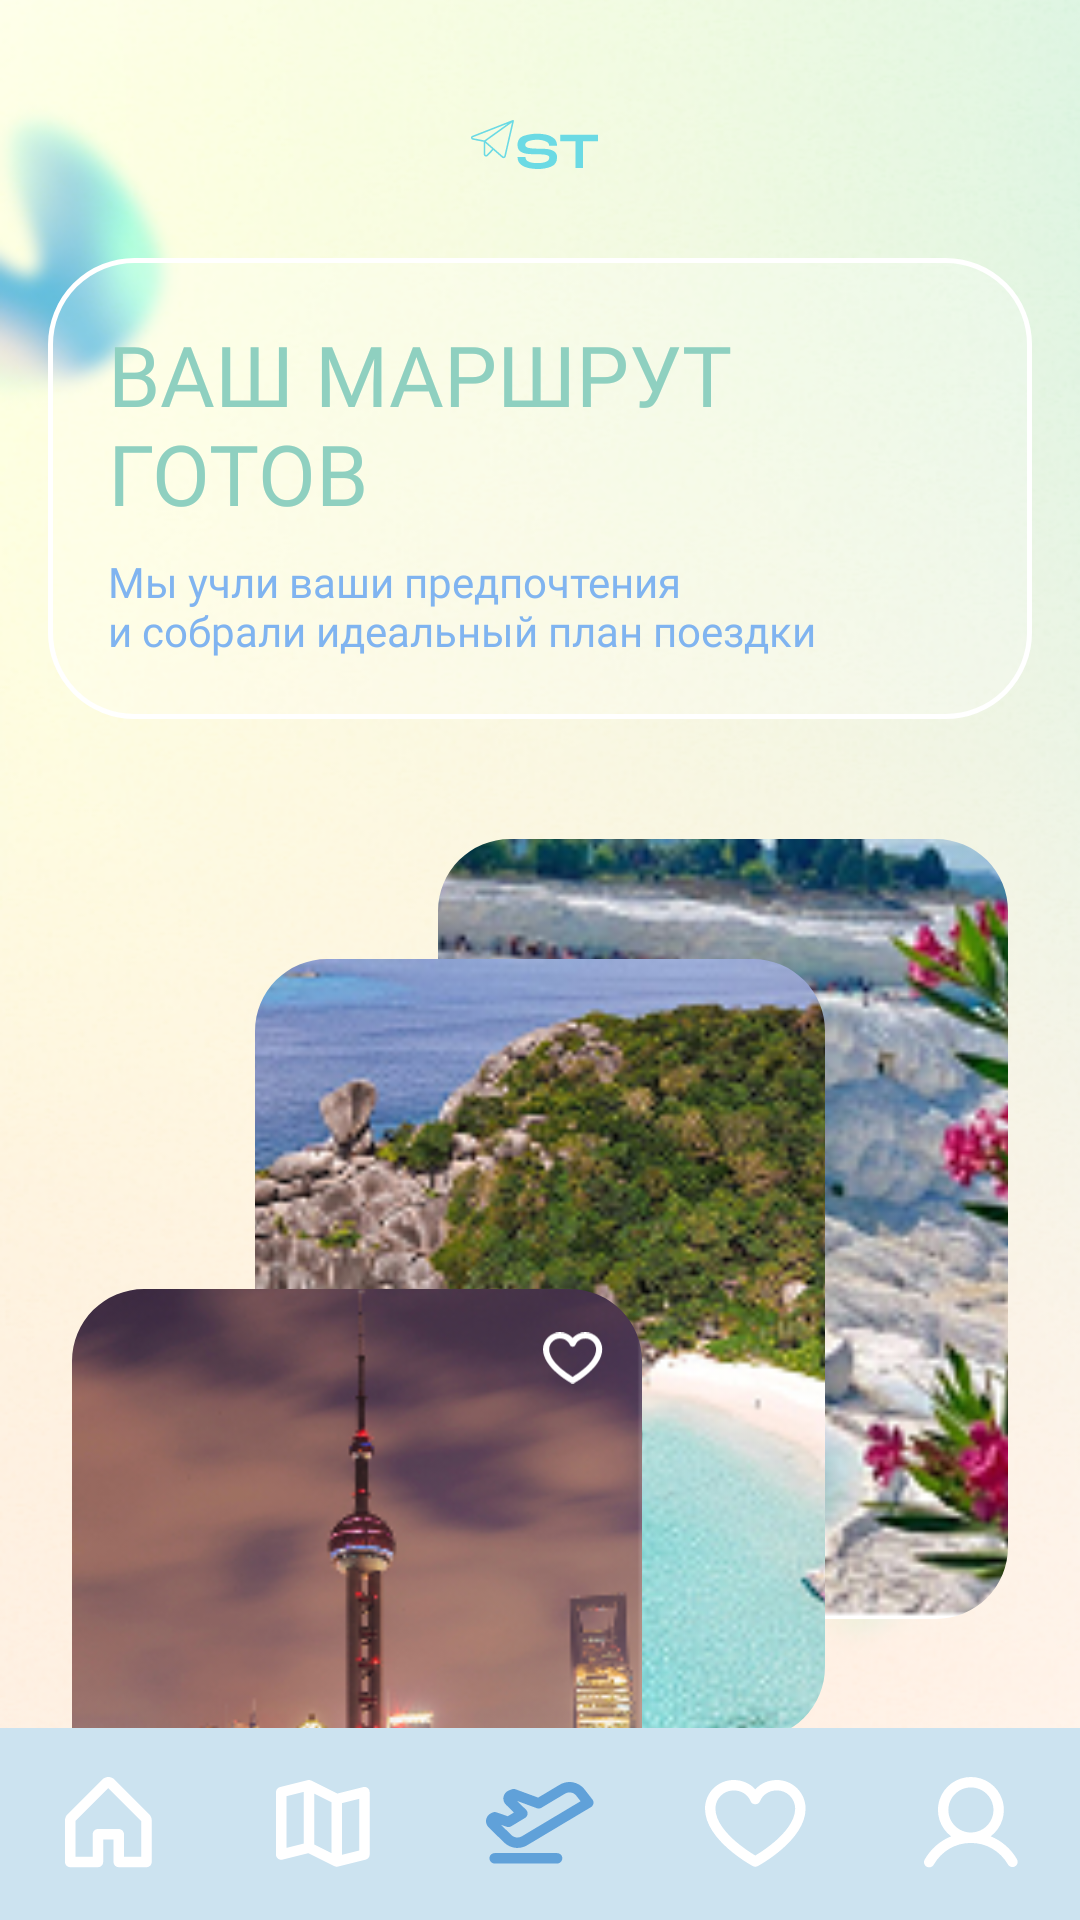

Icon click points for this 1080x1920 phone screenshot, format (x,y):
heart: (755,1823)
user: (971,1822)
